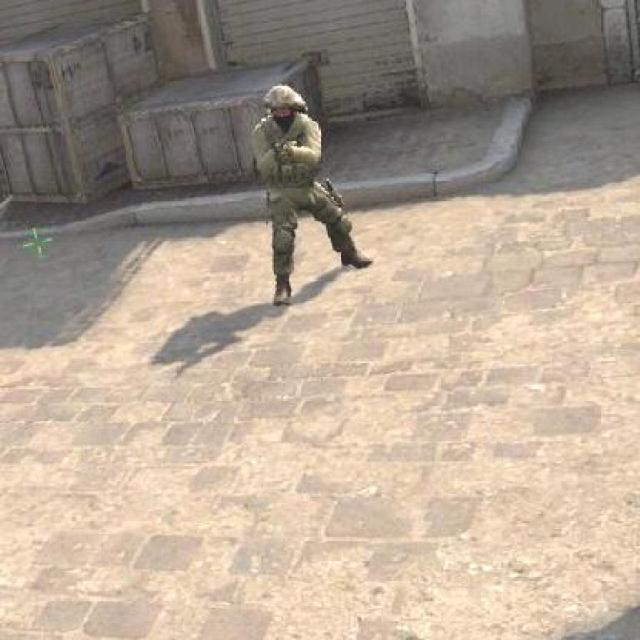CT-Body: (257, 77, 300, 128)
CT-Head: (232, 74, 370, 306)
